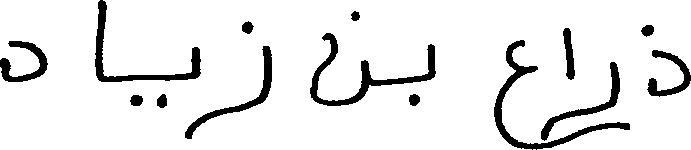X: (311, 6, 369, 110), (493, 35, 536, 149), (224, 16, 272, 118), (577, 57, 619, 141), (648, 20, 690, 101), (0, 36, 46, 86), (563, 23, 575, 148), (94, 0, 107, 86), (189, 42, 199, 143), (426, 39, 435, 85)
